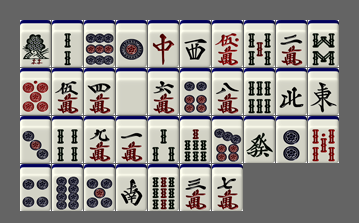0m: (212, 20, 243, 67)
0p: (20, 68, 51, 115)
0s: (308, 116, 339, 163)
1m: (116, 116, 147, 163)
1p: (116, 20, 147, 67)
1s: (20, 20, 51, 67)
1z: (308, 68, 339, 115)
2m: (276, 20, 307, 67)
2p: (276, 116, 307, 163)
2s: (52, 20, 83, 67)
2z: (116, 164, 147, 211)
3m: (180, 164, 211, 211)
3p: (20, 116, 51, 163)
3s: (148, 116, 179, 163)
3z: (180, 20, 211, 67)
4m: (84, 68, 115, 115)
4p: (20, 164, 51, 211)
4s: (52, 116, 83, 163)
4z: (276, 68, 307, 115)
5m: (52, 68, 83, 115)
5p: (84, 164, 115, 211)
5s: (244, 20, 275, 67)
5z: (116, 68, 147, 115)
6m: (148, 68, 179, 115)
6p: (180, 68, 211, 115)
6s: (244, 68, 275, 115)
6z: (244, 116, 275, 163)
7m: (212, 164, 243, 211)
7p: (212, 116, 243, 163)
7s: (180, 116, 211, 163)
7z: (148, 20, 179, 67)
8m: (212, 68, 243, 115)
8p: (52, 164, 83, 211)
8s: (308, 20, 339, 67)
9m: (84, 116, 115, 163)
9p: (84, 20, 115, 67)
9s: (148, 164, 179, 211)
